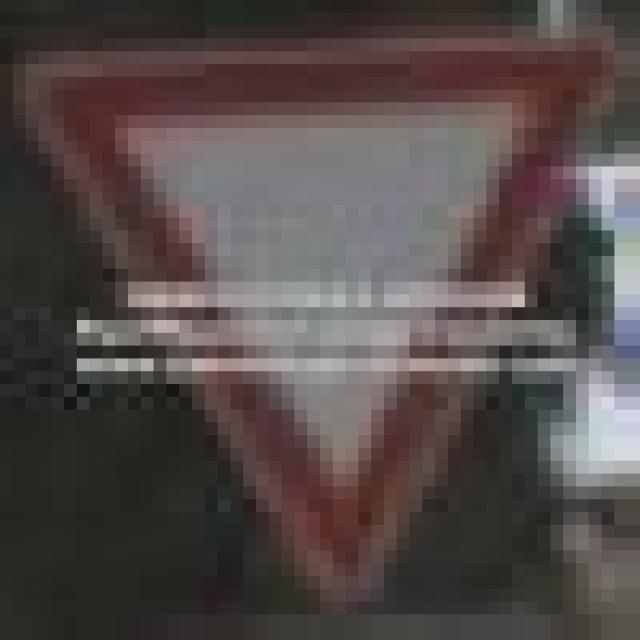GIVE_WAY: (0, 38, 627, 589)
